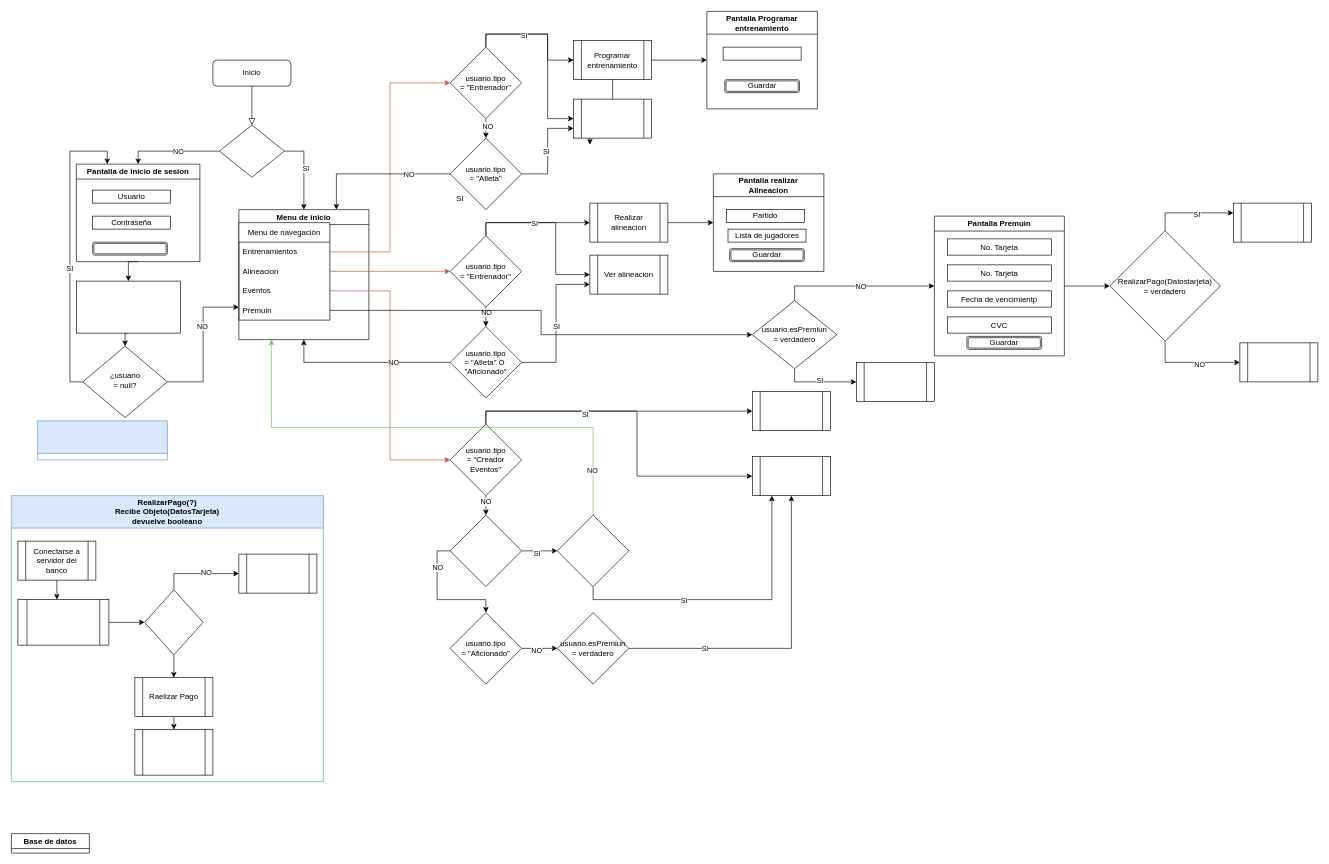
This 1329x864 diagram has some shape labels left out. The centre of each missing label's shape, as x and y in pixels:
CambiarPremuin( usuario.usuario): (x=1272, y=222)
Devolver Falso: (x=277, y=573)
Devolver Verdadero: (x=173, y=752)
estaInvitado( usuario.usuario) = verdadero: (x=593, y=550)
Fecha: (x=761, y=53)
Funcion login(?,?) Recibe usuario y contraseña devuelve Objeto(Usuario): (x=102, y=440)
Iniciar sesion: (x=129, y=248)
Mostrar mensaje que no s epuede realizar su transaccion: (x=1278, y=362)
MostrarMensaje que ya es Premuin: (x=895, y=381)
Organizar Evento: (x=791, y=411)
Participar en Evento: (x=791, y=476)
usuario = login(Usuario.texto, Contraseña.texto): (x=128, y=306)
usuario.tipo = "Entrenador" o "Atleta": (x=485, y=550)
Ver entrenamiento: (x=612, y=118)
Verificar si tiene saldo disponible para completar la transaccion: (x=63, y=622)
¿Hay usuario logueqado?: (x=251, y=150)
¿Tiene saldo disponibel?: (x=173, y=622)
